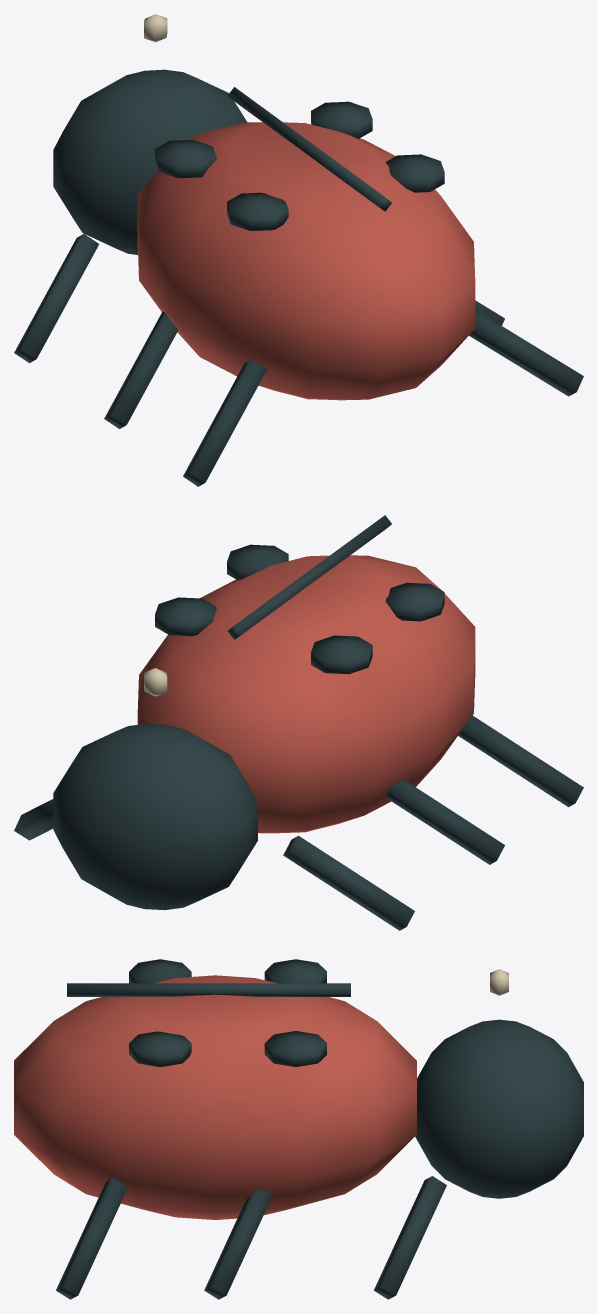
The model's file is insect_ladybird.glb.
3 views of the same model, one above another, from view 1: azimuth 30°, elevation 25°; view 2: azimuth 150°, elevation 25°; view 3: azimuth 270°, elevation 25° (orthographic). The views are drawn at different scales.
Size of the model in its own units: 0.101 by 0.064 by 0.1345.
